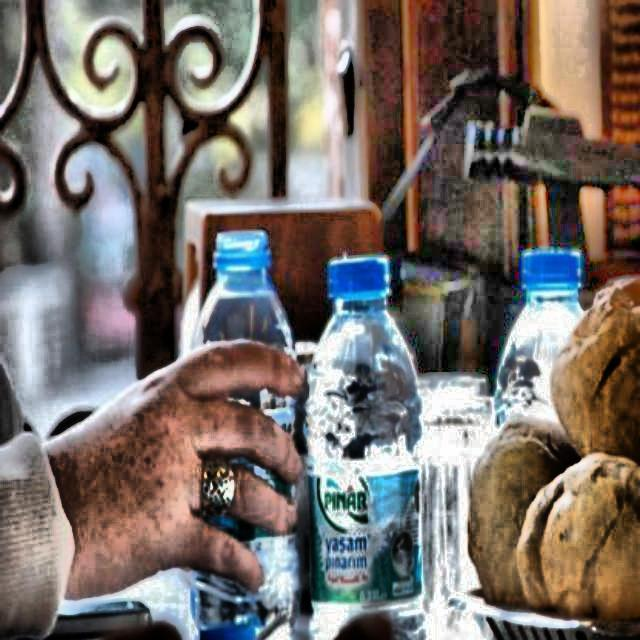Bottles: (300, 245, 435, 640)
